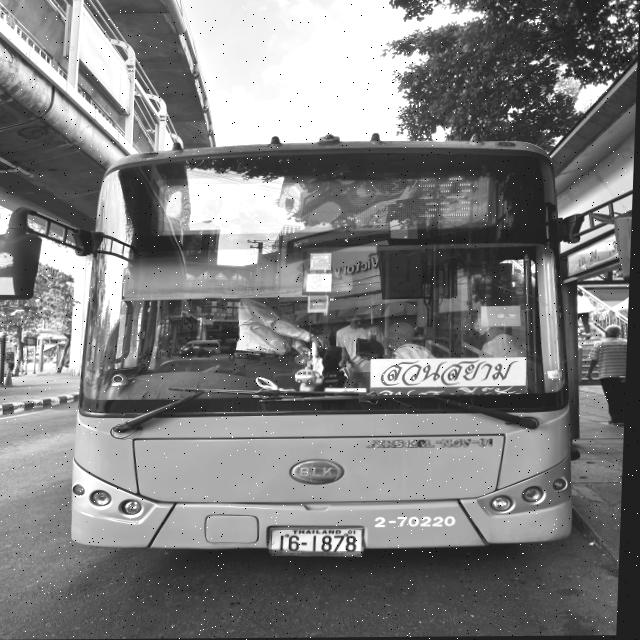BMTA-bus: (70, 138, 592, 563)
Bus-Line-Number: (400, 173, 497, 227)
Destination-Sign-Normal: (369, 359, 532, 397)
